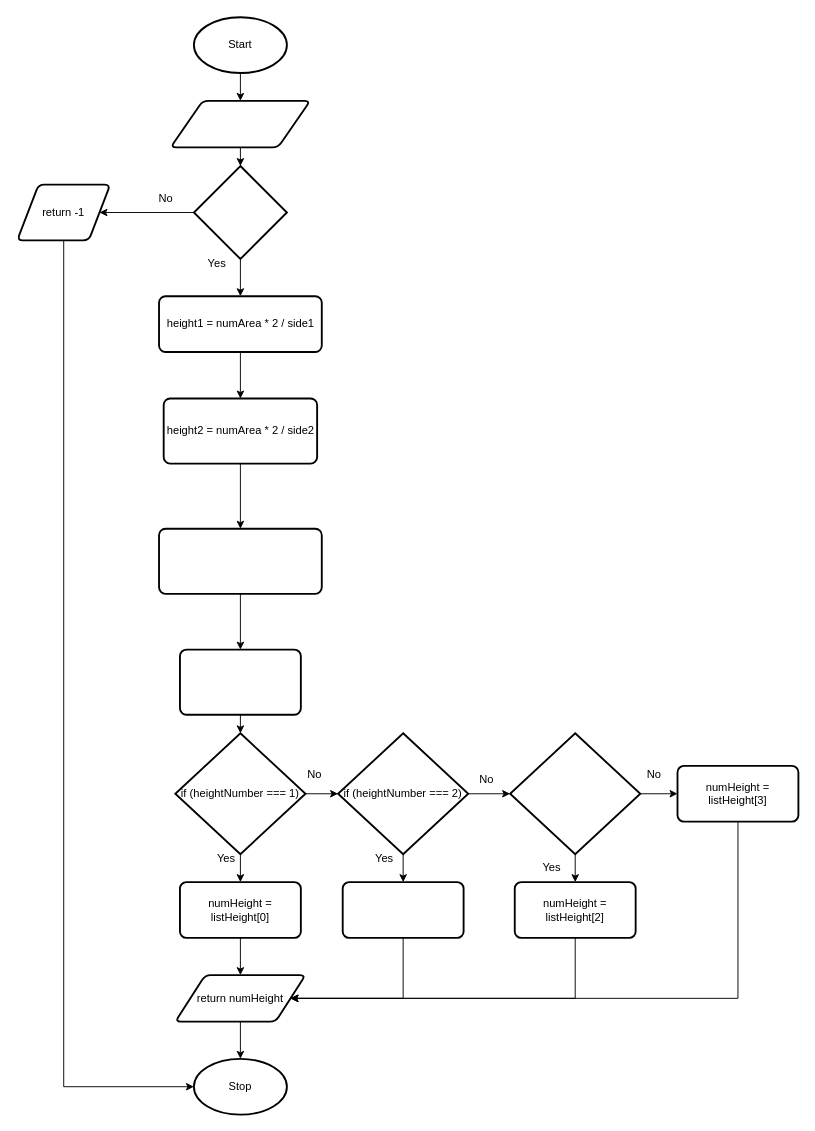
This 815x1131 diagram has some shape labels left out. The shapes that lost their labels are listed below. From the top down, each one's box as (x1, y1, x2, y2) in pixels, then its label:
(169, 100, 311, 148): get heightNumber
(193, 165, 287, 259): if (isValid())
(158, 527, 322, 594): height3 = numArea * 2 / side3
(179, 648, 301, 715): listHeight = [height1. height2. height3, -1]
(509, 732, 641, 855): if (heightNumber === 3)
(341, 881, 464, 938): numHeight = listHeight[1]
